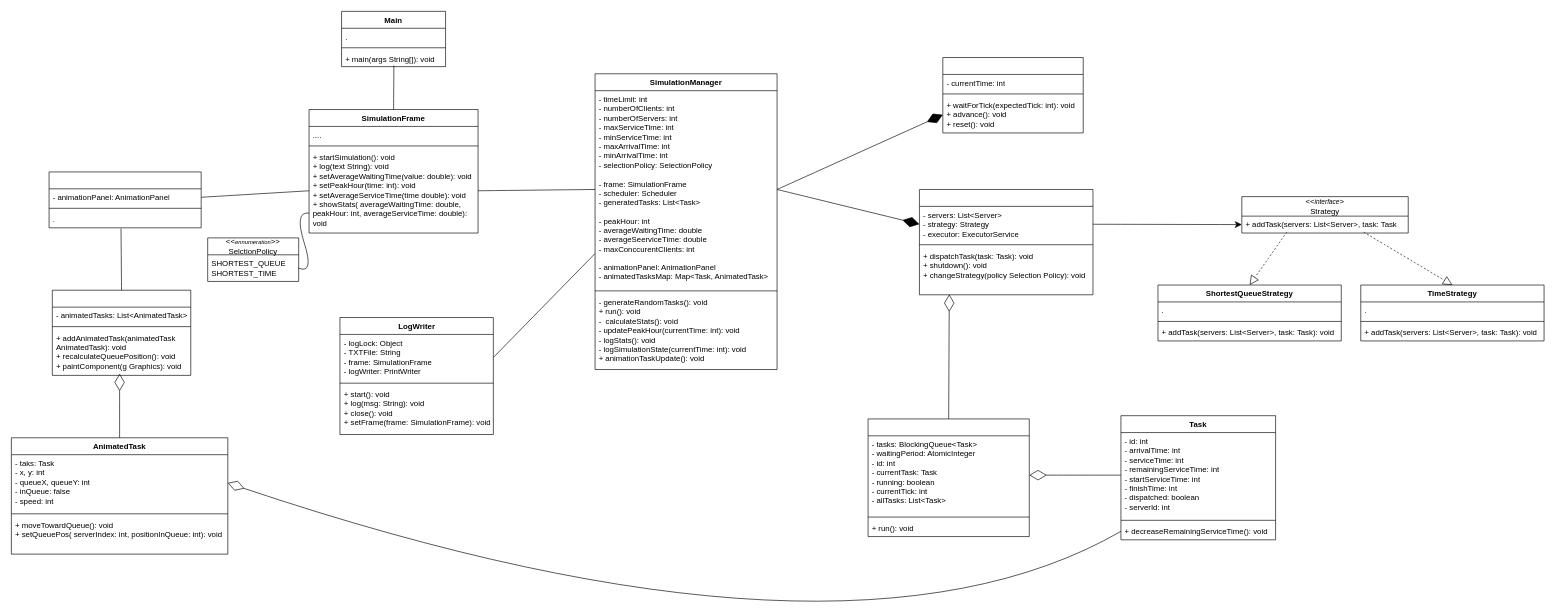
The diagram is 1555 pixels wide and 613 high, and some of its shapes have lost their labels. The shapes that lost their labels are listed below. From the top down, each one's box as (x1, y1, x2, y2) in pixels, then its label:
(942, 57, 1083, 133): SimulationClock
(48, 171, 201, 228): AnimationFrame
(919, 189, 1093, 295): Scheduler
(52, 290, 191, 375): AnimationPanel
(867, 418, 1029, 537): Server
